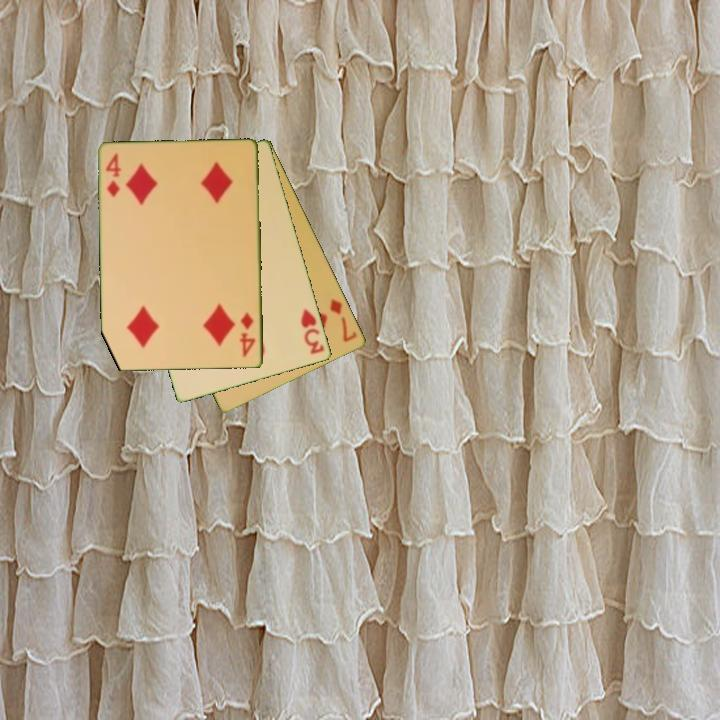3h: (297, 305, 327, 357)
4d: (237, 308, 258, 360), (103, 149, 124, 200)
7d: (326, 295, 360, 345)
